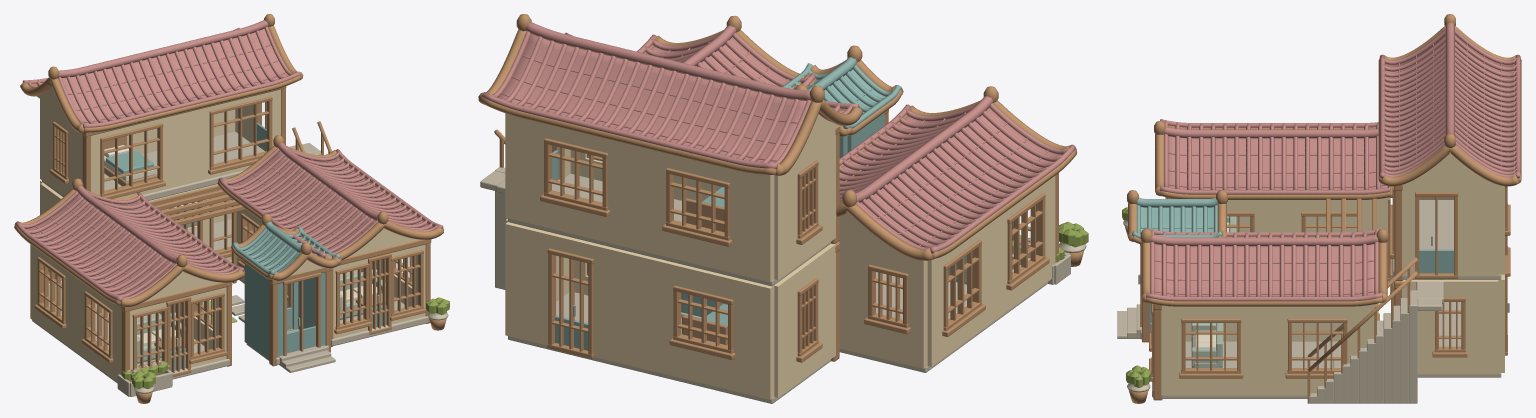
3 renders of one model, left to right at view 1: azimuth 30°, elevation 25°; view 2: azimuth 150°, elevation 25°; view 3: azimuth 270°, elevation 25°, orthographic. The views are drawn at different scales.
Parts seen in each view (by area): view 1: SM_26_02_曲面屋顶, SM_26_01_建筑墙体, SM_26_04_门窗楼梯, SM_26_03_木构回廊, SM_26_06_景观设施, SM_26_05_景观植物; view 2: SM_26_01_建筑墙体, SM_26_02_曲面屋顶, SM_26_04_门窗楼梯, SM_26_06_景观设施, SM_26_05_景观植物, SM_26_03_木构回廊; view 3: SM_26_02_曲面屋顶, SM_26_01_建筑墙体, SM_26_04_门窗楼梯, SM_26_03_木构回廊, SM_26_06_景观设施, SM_26_05_景观植物.
Boxes of the visible parts, x1,y1,x2,y2 form: SM_26_02_曲面屋顶: (14, 14, 443, 306); SM_26_01_建筑墙体: (30, 87, 428, 383); SM_26_04_门窗楼梯: (34, 96, 426, 376); SM_26_03_木构回廊: (82, 86, 431, 380); SM_26_06_景观设施: (104, 136, 385, 363); SM_26_05_景观植物: (117, 297, 449, 403); SM_26_01_建筑墙体: (505, 113, 1055, 403); SM_26_02_曲面屋顶: (478, 14, 1077, 260); SM_26_04_门窗楼梯: (480, 129, 1049, 362); SM_26_06_景观设施: (682, 187, 966, 345); SM_26_05_景观植物: (1012, 221, 1088, 284); SM_26_03_木构回廊: (831, 109, 1058, 361); SM_26_02_曲面屋顶: (1127, 14, 1521, 306); SM_26_01_建筑墙体: (1140, 151, 1504, 398); SM_26_04_门窗楼梯: (1117, 186, 1510, 403); SM_26_03_木构回廊: (1142, 185, 1403, 400); SM_26_06_景观设施: (1191, 196, 1453, 367); SM_26_05_景观植物: (1122, 207, 1378, 403).
Bounding box in the file's own units: 10.87 × 7.14 × 10.46.
